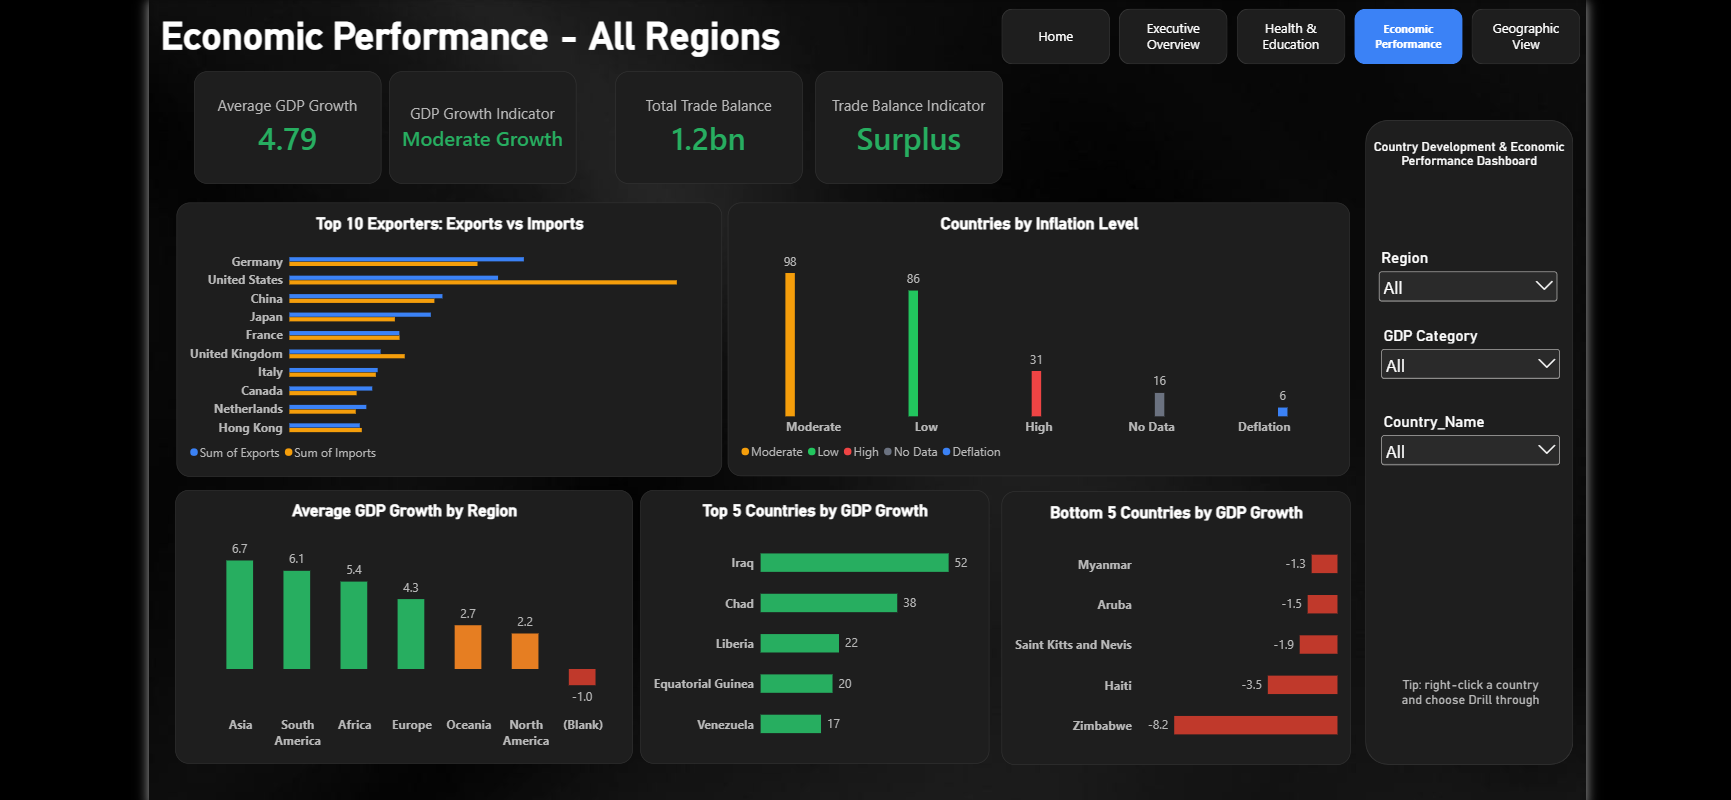

What the dashboard file says about the page in this screenshot:
{"tool":"powerbi","page":{"name":"Economic Performance","canvas":[1920,1080],"ordinal":3},"visuals":[{"type":"shape","box":[1623.9,160.3,277.8,861.4],"z":0},{"type":"slicer","fields":{"Values":["Country Data Comparison.Country_Name"]},"box":[1640.7,550.8,248,72.7],"z":1000},{"type":"slicer","fields":{"Values":["Dim_Region.Region"]},"box":[1638.8,332.6,248,70.8],"z":2000},{"type":"slicer","fields":{"Values":["Country Data Comparison.GDP Category"]},"box":[1640.7,435.2,247.9,72.4],"z":3000},{"type":"textbox","box":[1661.2,904.3,208,48],"z":4000},{"type":"pageNavigator","box":[1139.2,11.2,775.6,74.6],"z":5000},{"type":"cardVisual","fields":{"Data":["AllMeasures.Economic Title"]},"box":[0,0,1139.2,95.1],"z":6000},{"type":"cardVisual","fields":{"Data":["AllMeasures.Average GDP Growth"]},"box":[59.7,95.1,250,150],"z":7000},{"type":"cardVisual","fields":{"Data":["AllMeasures.GDP Growth Indicator"]},"box":[320.7,95.1,250,150],"z":8000},{"type":"cardVisual","fields":{"Data":["AllMeasures.Total Trade Balance"]},"box":[622.7,95.1,250,150],"z":9000},{"type":"cardVisual","fields":{"Data":["AllMeasures.Trade Balance Indicator"]},"box":[889.3,95.1,250,150],"z":10000},{"type":"clusteredBarChart","title":"Top 10 Exporters: Exports vs Imports","fields":{"Category":["Country Data Comparison.Country_Name"],"Y":["Sum(Country Data Comparison.Exports)","Sum(Country Data Comparison.Imports)"]},"box":[36,270,729,366],"z":11000},{"type":"clusteredColumnChart","title":"Countries by Inflation Level","fields":{"Category":["Country Data Comparison.Inflation Category"],"Series":["Country Data Comparison.Inflation Category"],"Y":["AllMeasures.Countries Count"]},"box":[773.7,270.3,831.5,365.4],"z":12000},{"type":"clusteredColumnChart","title":"Average GDP Growth by Region","fields":{"Category":["Dim_Region.Region"],"Y":["AllMeasures.Average GDP Growth"]},"box":[35.4,654.4,611.5,365.4],"z":13000},{"type":"clusteredBarChart","title":"Top 5 Countries by GDP Growth","fields":{"Category":["Country Data Comparison.Country_Name"],"Y":["Avg(Country Data Comparison.GDP_Growth%)"]},"box":[656.3,654.4,466.1,365.4],"z":14000},{"type":"clusteredBarChart","title":"Bottom 5 Countries by GDP Growth","fields":{"Category":["Country Data Comparison.Country_Name"],"Y":["Avg(Country Data Comparison.GDP_Growth%)"]},"box":[1139.2,656.3,466.1,365.4],"z":15000},{"type":"textbox","box":[1623.9,184.6,277.8,59.7],"z":16000}]}

Visuals, with their boxes on the page's 1920x1080 design canvas (x1, y1, x2, y2). These are canvas units, not pixel positions in the 1731x800 screenshot, which may show the page scaled, cropped or inside an application window:
shape: l=1624, t=160, r=1902, b=1022
slicer - Country Data Comparison.Country_Name: l=1641, t=551, r=1889, b=624
slicer - Dim_Region.Region: l=1639, t=333, r=1887, b=403
slicer - Country Data Comparison.GDP Category: l=1641, t=435, r=1889, b=508
textbox: l=1661, t=904, r=1869, b=952
pageNavigator: l=1139, t=11, r=1915, b=86
cardVisual - AllMeasures.Economic Title: l=0, t=0, r=1139, b=95
cardVisual - AllMeasures.Average GDP Growth: l=60, t=95, r=310, b=245
cardVisual - AllMeasures.GDP Growth Indicator: l=321, t=95, r=571, b=245
cardVisual - AllMeasures.Total Trade Balance: l=623, t=95, r=873, b=245
cardVisual - AllMeasures.Trade Balance Indicator: l=889, t=95, r=1139, b=245
"Top 10 Exporters: Exports vs Imports" clusteredBarChart: l=36, t=270, r=765, b=636
"Countries by Inflation Level" clusteredColumnChart: l=774, t=270, r=1605, b=636
"Average GDP Growth by Region" clusteredColumnChart: l=35, t=654, r=647, b=1020
"Top 5 Countries by GDP Growth" clusteredBarChart: l=656, t=654, r=1122, b=1020
"Bottom 5 Countries by GDP Growth" clusteredBarChart: l=1139, t=656, r=1605, b=1022
textbox: l=1624, t=185, r=1902, b=244
